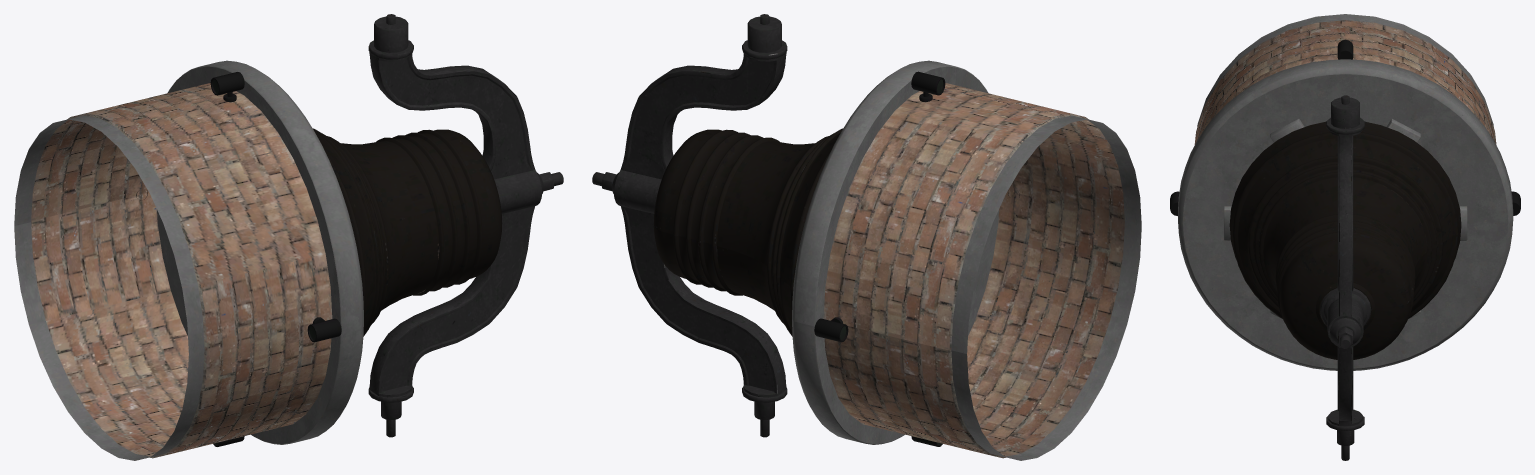
File: cP_Bell.dae
3 views of the same model, side by side, from view 1: azimuth 30°, elevation 25°; view 2: azimuth 150°, elevation 25°; view 3: azimuth 270°, elevation 25° (orthographic). The views are drawn at different scales.
Parts seen in each view (by area): view 1: cP_Bell.001; view 2: cP_Bell.001; view 3: cP_Bell.001.
Part boxes in pixels (x1,y1,x2,y2): cP_Bell.001: (14, 14, 563, 460); cP_Bell.001: (592, 14, 1141, 460); cP_Bell.001: (1170, 14, 1520, 460).
Bounding box in the file's own units: 2.73 × 2.09 × 2.38.
